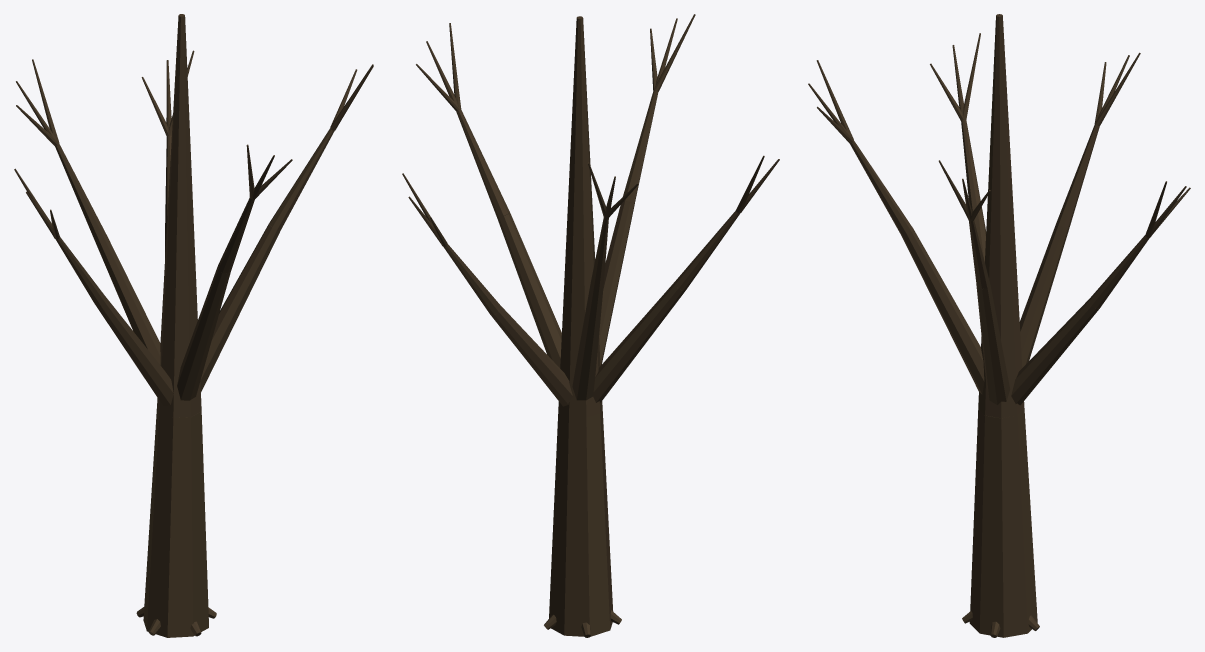
The model's file is oak_sapling_winter.glb.
3 views of the same model, side by side, from view 1: azimuth 30°, elevation 25°; view 2: azimuth 150°, elevation 25°; view 3: azimuth 270°, elevation 25° (orthographic).
Parts seen in each view (by area): view 1: oak_sapling_winter; view 2: oak_sapling_winter; view 3: oak_sapling_winter.
Boxes of the visible parts, x1,y1,x2,y2 form: oak_sapling_winter: [14, 14, 373, 637]; oak_sapling_winter: [402, 14, 779, 637]; oak_sapling_winter: [808, 14, 1190, 637].
Size of the model in its own units: 4.07 by 6.72 by 3.83.
